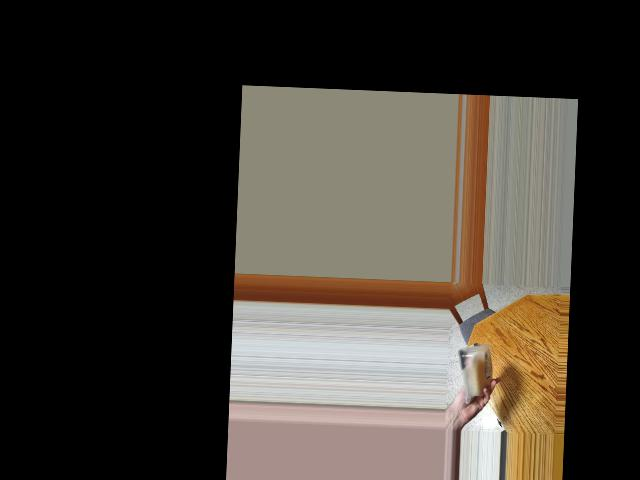cheese: (460, 346, 492, 394)
